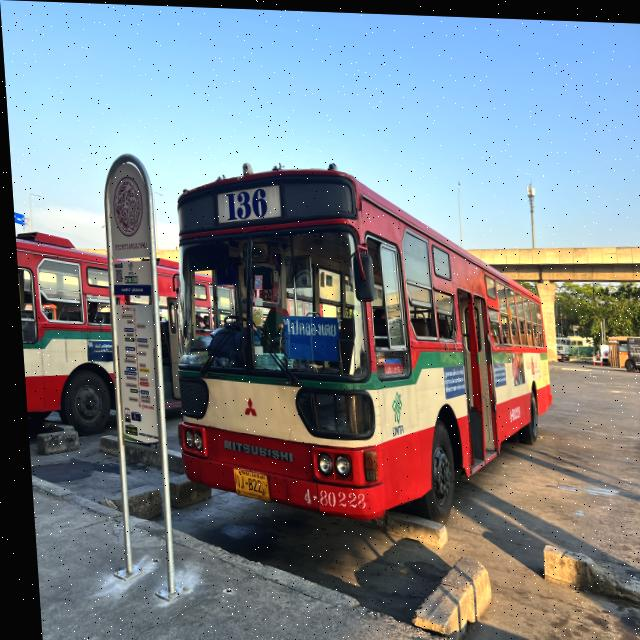BMTA-bus: (157, 160, 555, 527), (8, 152, 183, 441), (601, 329, 640, 370)
Bus-Line-Number: (213, 183, 272, 221)
Destination-Sign-Normal: (278, 311, 337, 360)
